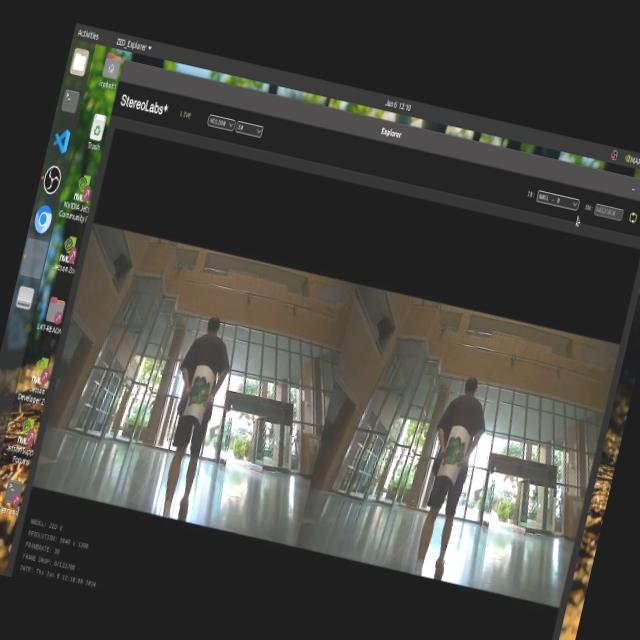green: (438, 428, 470, 472), (187, 376, 208, 409)
